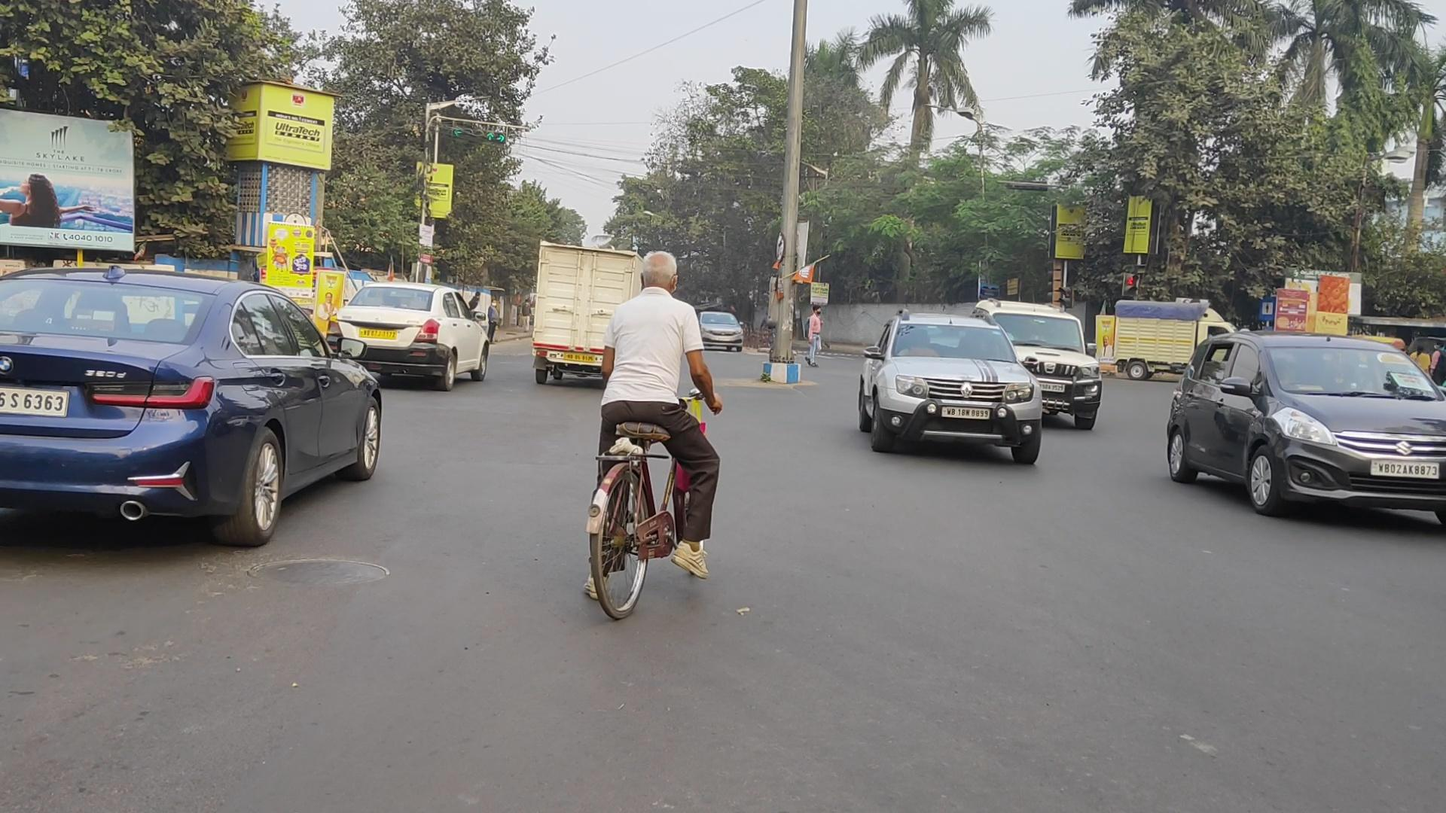bike: (584, 252, 722, 620)
car: (1, 264, 383, 548), (1168, 329, 1446, 522), (858, 309, 1042, 465), (327, 281, 490, 392), (976, 296, 1102, 431), (697, 309, 745, 355)
van: (534, 239, 652, 390), (1112, 296, 1252, 382)
